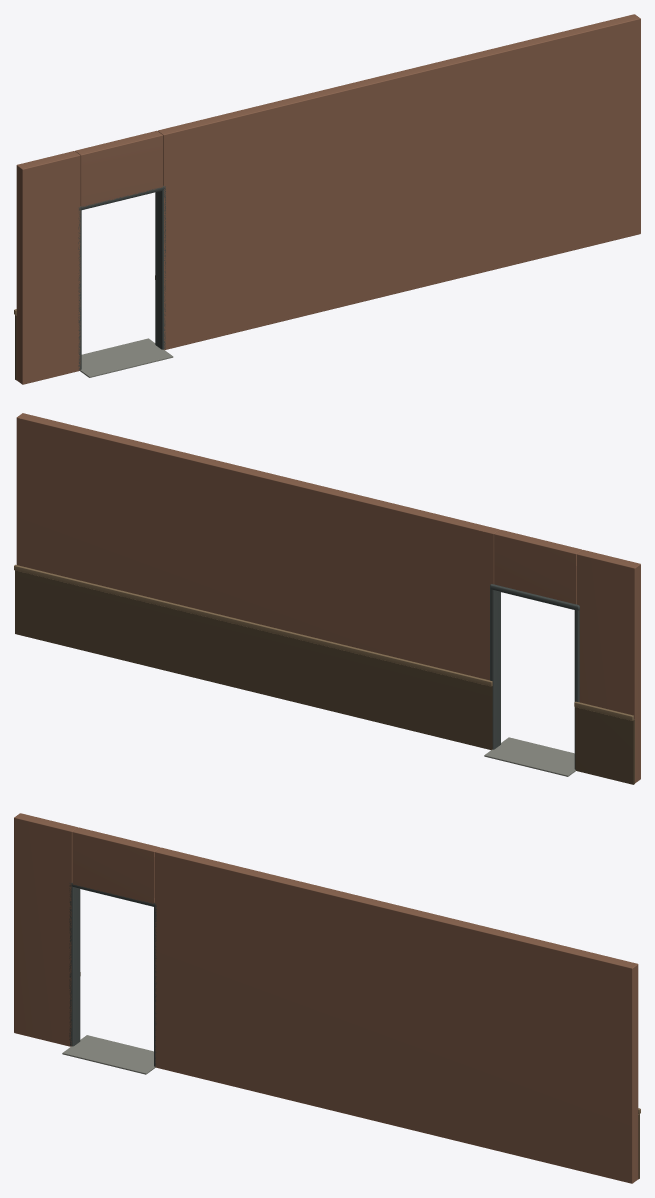
The model's file is Pawnshop_RearLining62.fbx.
3 renders of one model, top to bottom at view 1: azimuth 30°, elevation 25°; view 2: azimuth 150°, elevation 25°; view 3: azimuth 330°, elevation 25°, orthographic.
Visible parts, largest first — view 1: Pawnshop_RearLining62; view 2: Pawnshop_RearLining62; view 3: Pawnshop_RearLining62.
Boxes of the visible parts, x1=… form: Pawnshop_RearLining62: x1=14, y1=14, x2=640, y2=384; Pawnshop_RearLining62: x1=14, y1=413, x2=640, y2=784; Pawnshop_RearLining62: x1=14, y1=813, x2=640, y2=1183.
Bounding box in the file's own units: 900 × 301 × 62.
